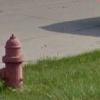Hydrant: (3, 31, 31, 87)
